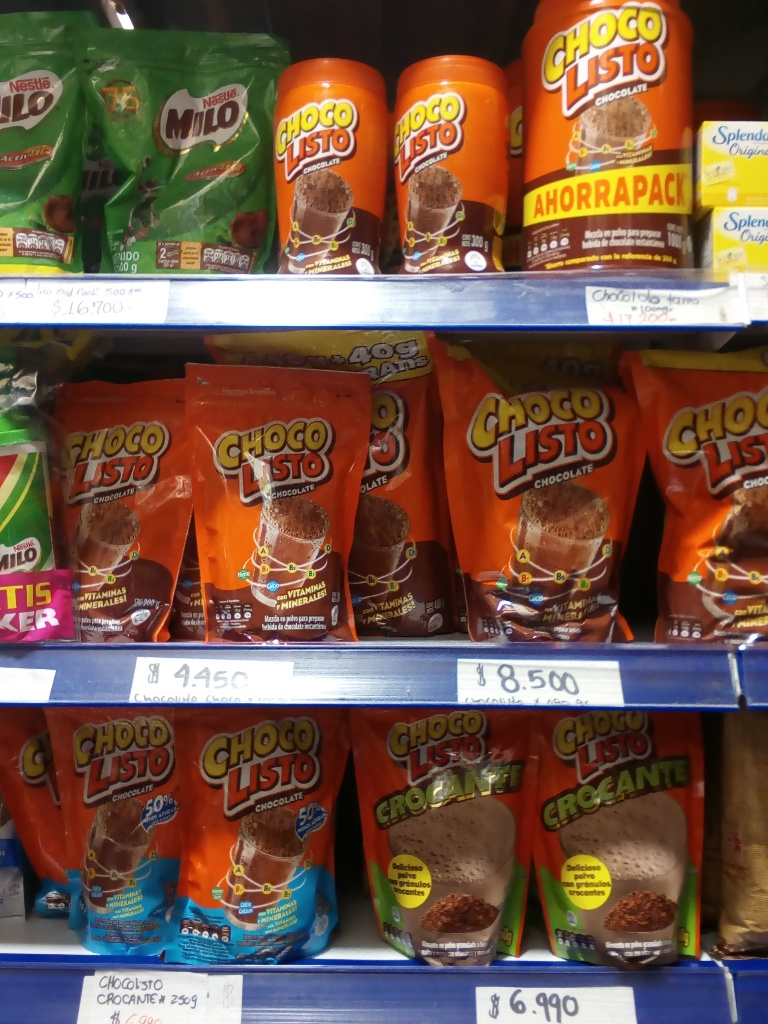COL0170103TRR00100: (524, 6, 707, 272)
